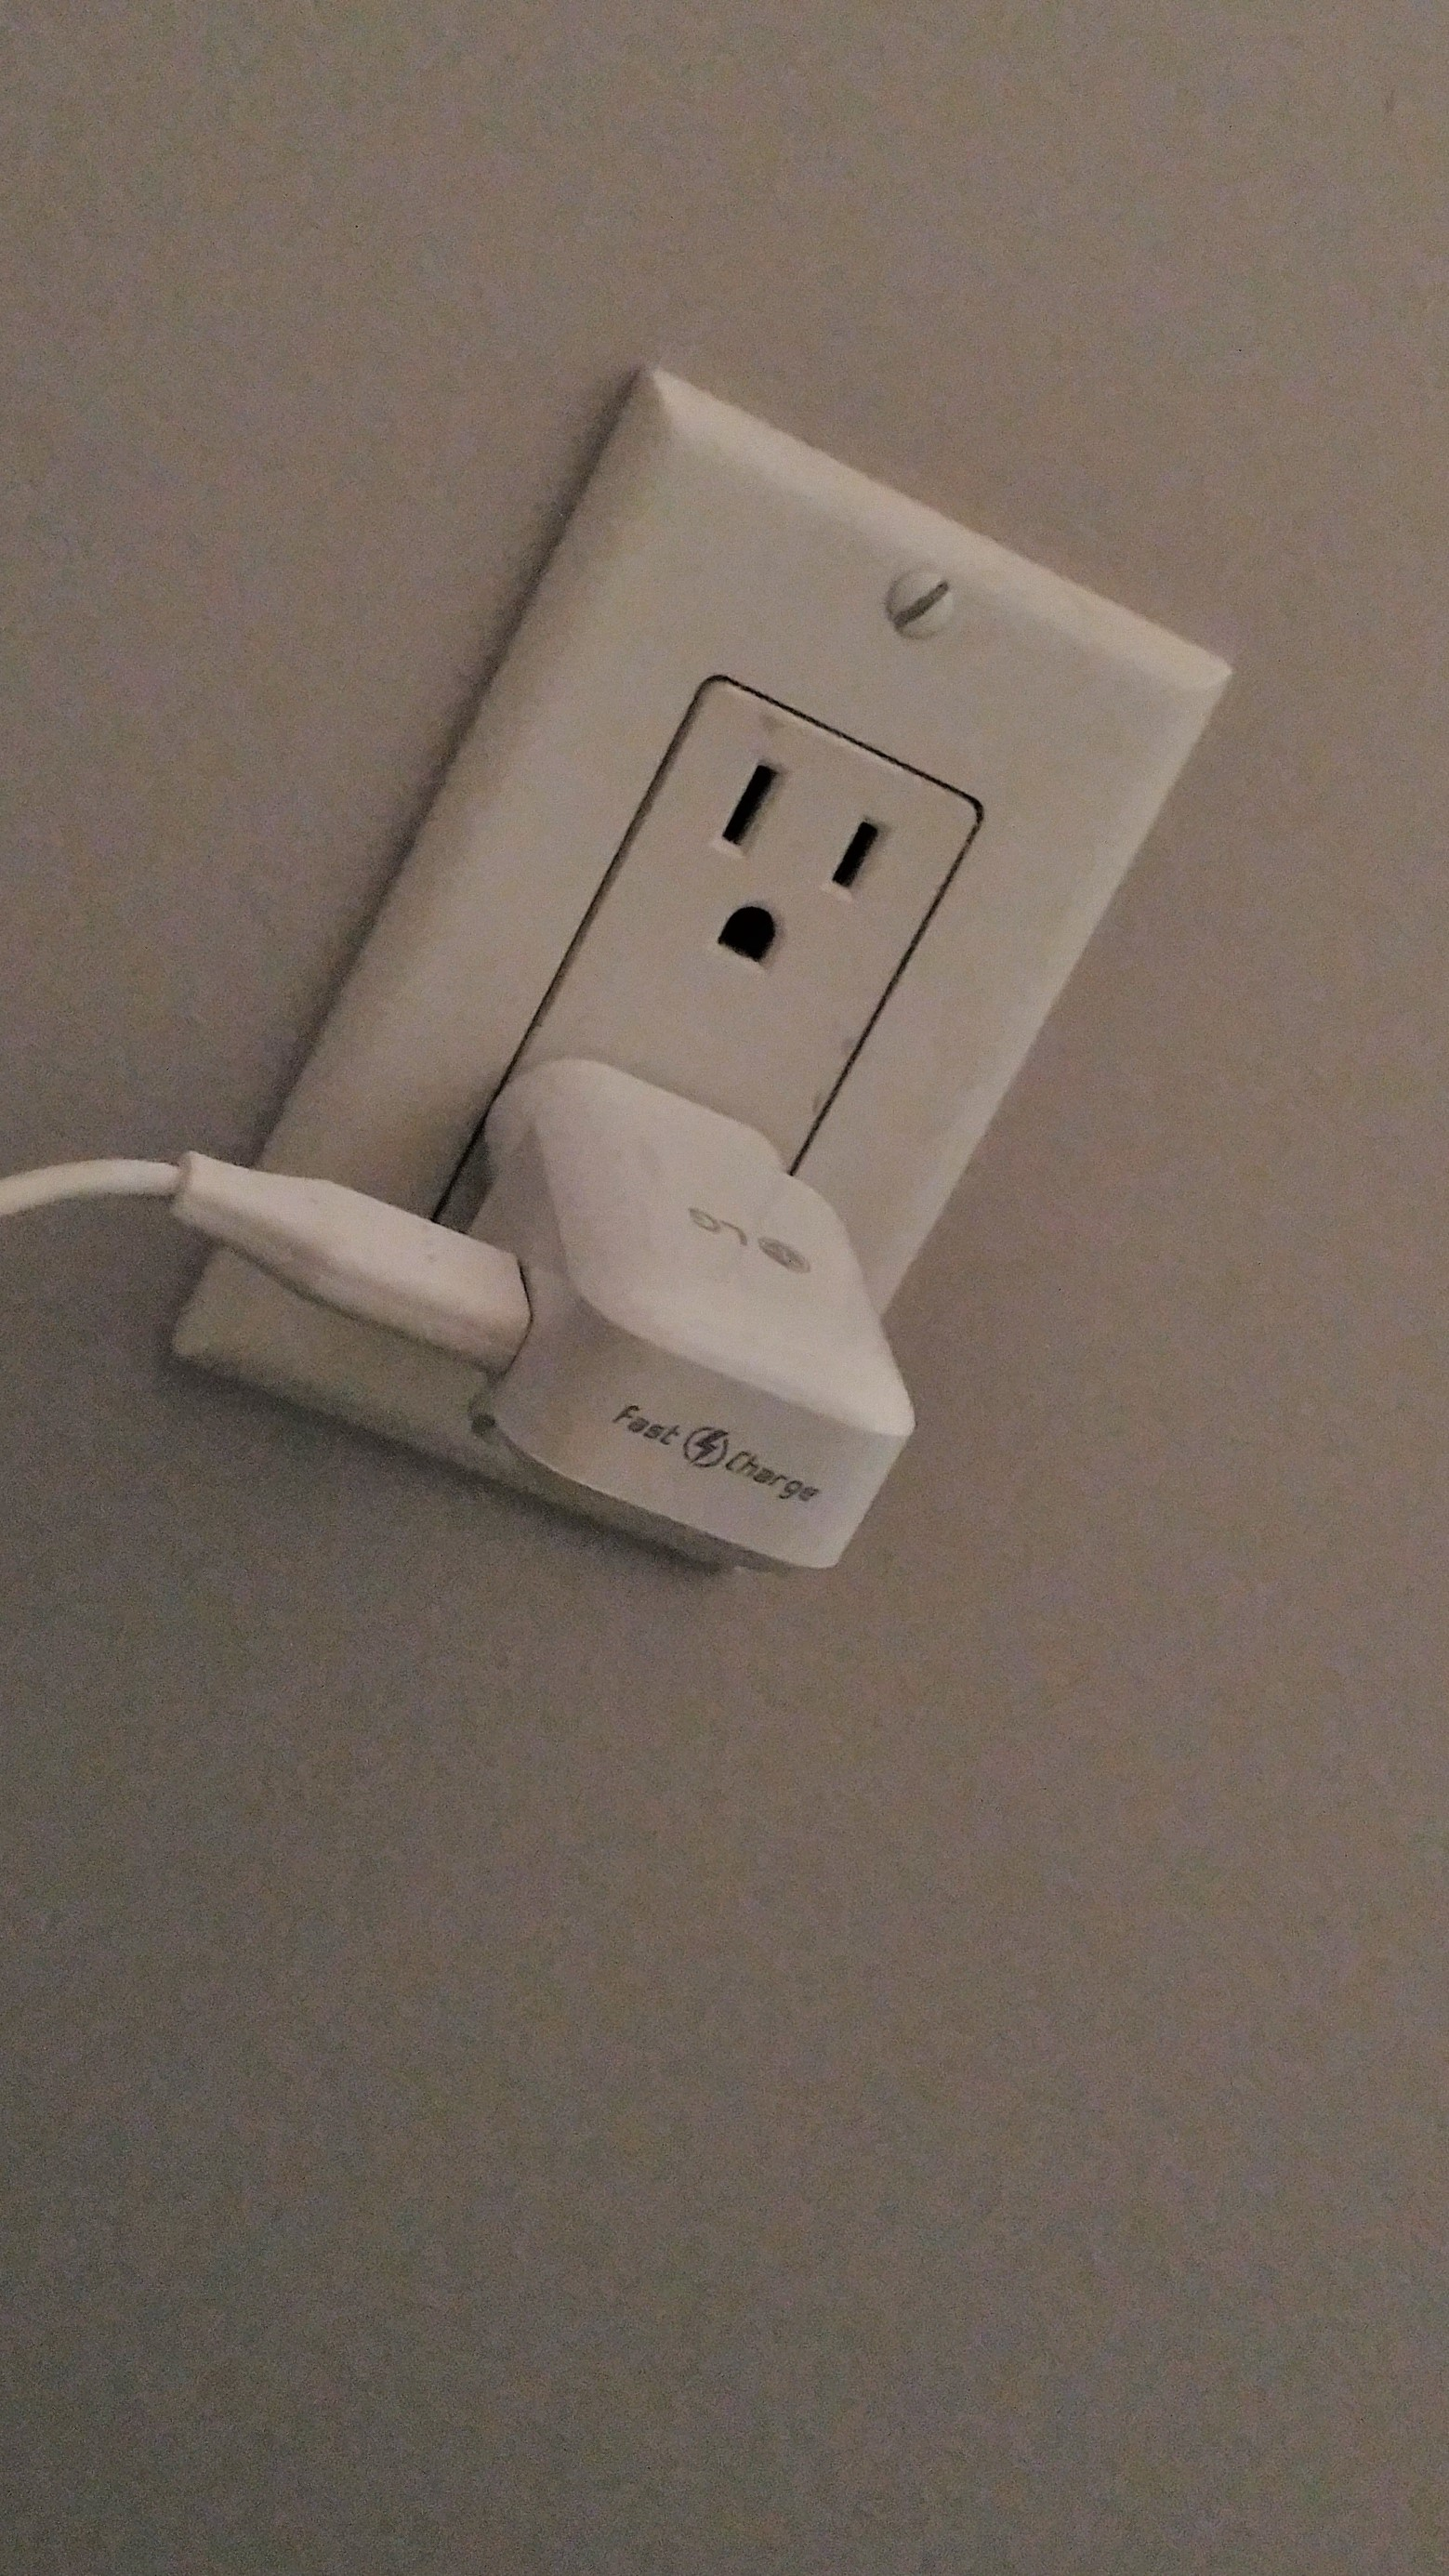outlet: (678, 724, 904, 984)
